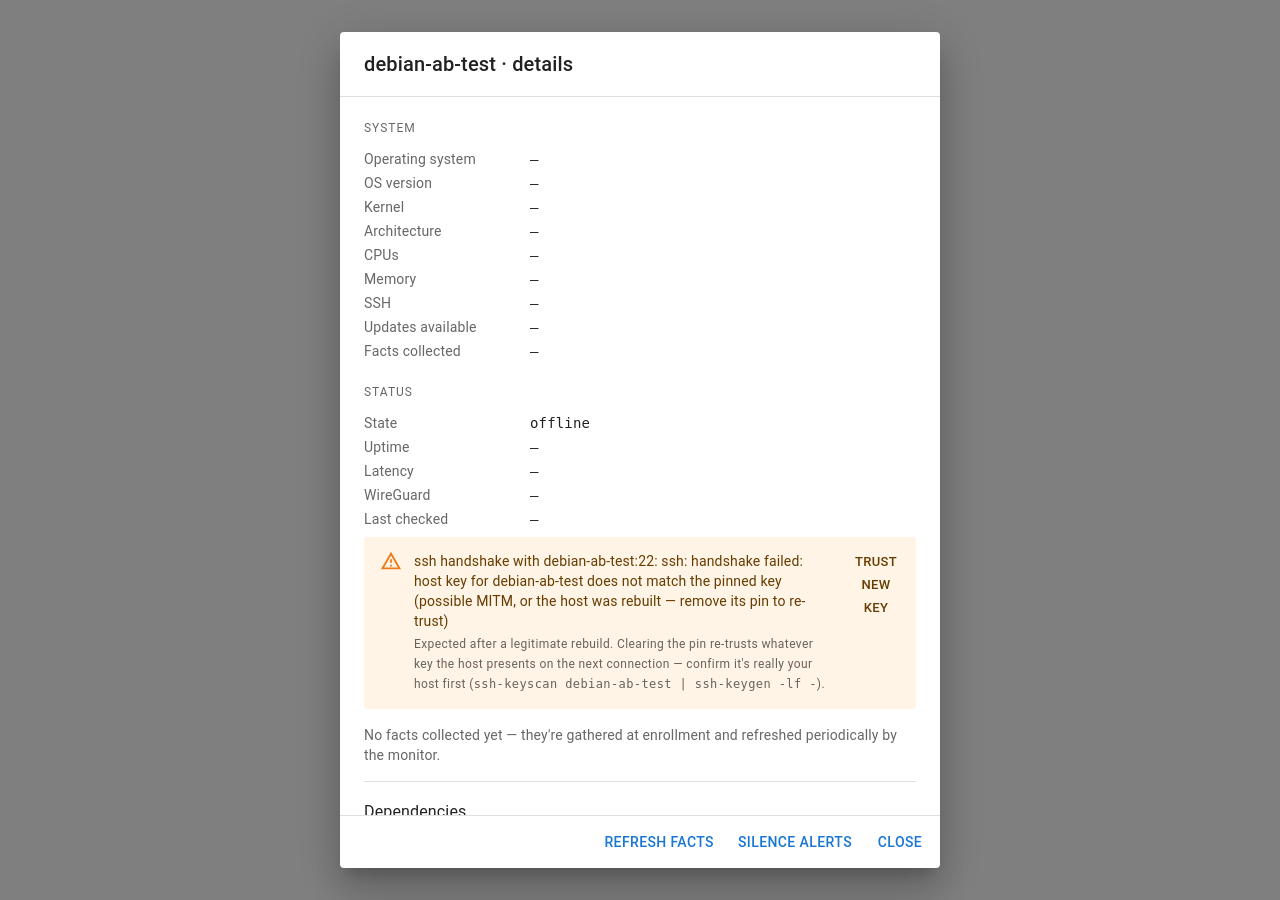
Test: HostDetailsDialog offline reason › offers to re-trust a rebuilt host's key and clears every pin
Expected: the text "does not match the pinned key" is shown, [414, 553, 806, 629]
Step 1. Click the button "Trust new key" → (876, 585), box [844, 547, 908, 623]
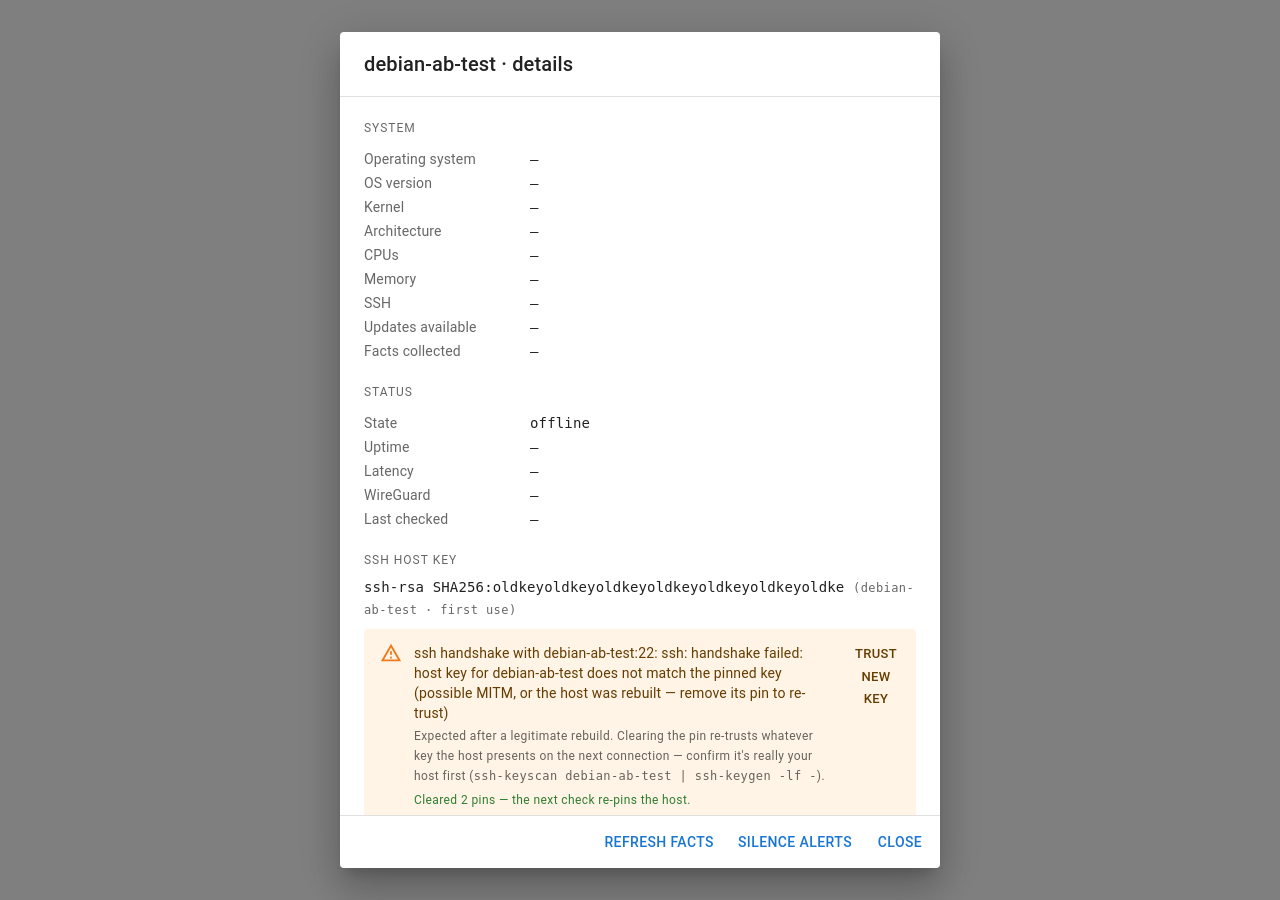
Now the text "Cleared 2 pins — the next check re-pins the host." is shown, box [414, 792, 691, 806]
